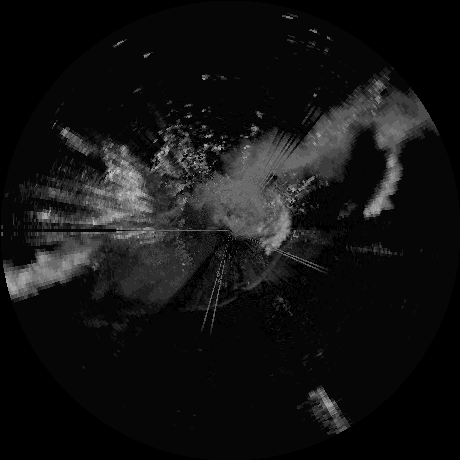frontgust: (240, 244, 290, 289), (195, 295, 235, 311)
